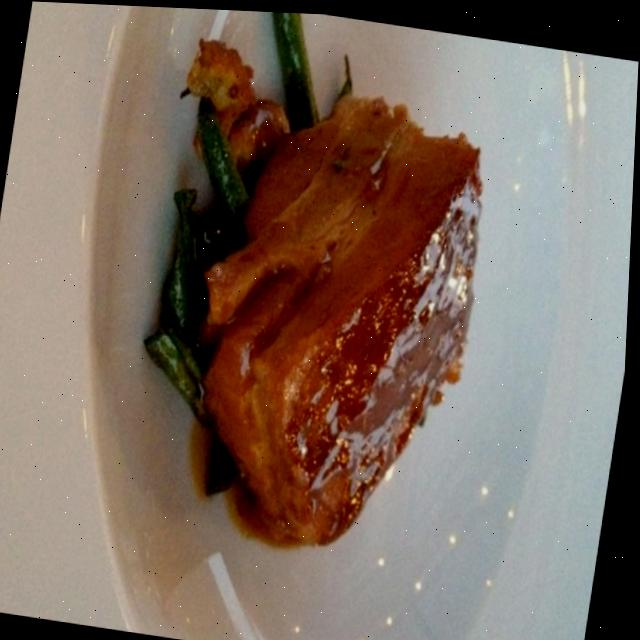牛肉菜式: (114, 69, 572, 573)
